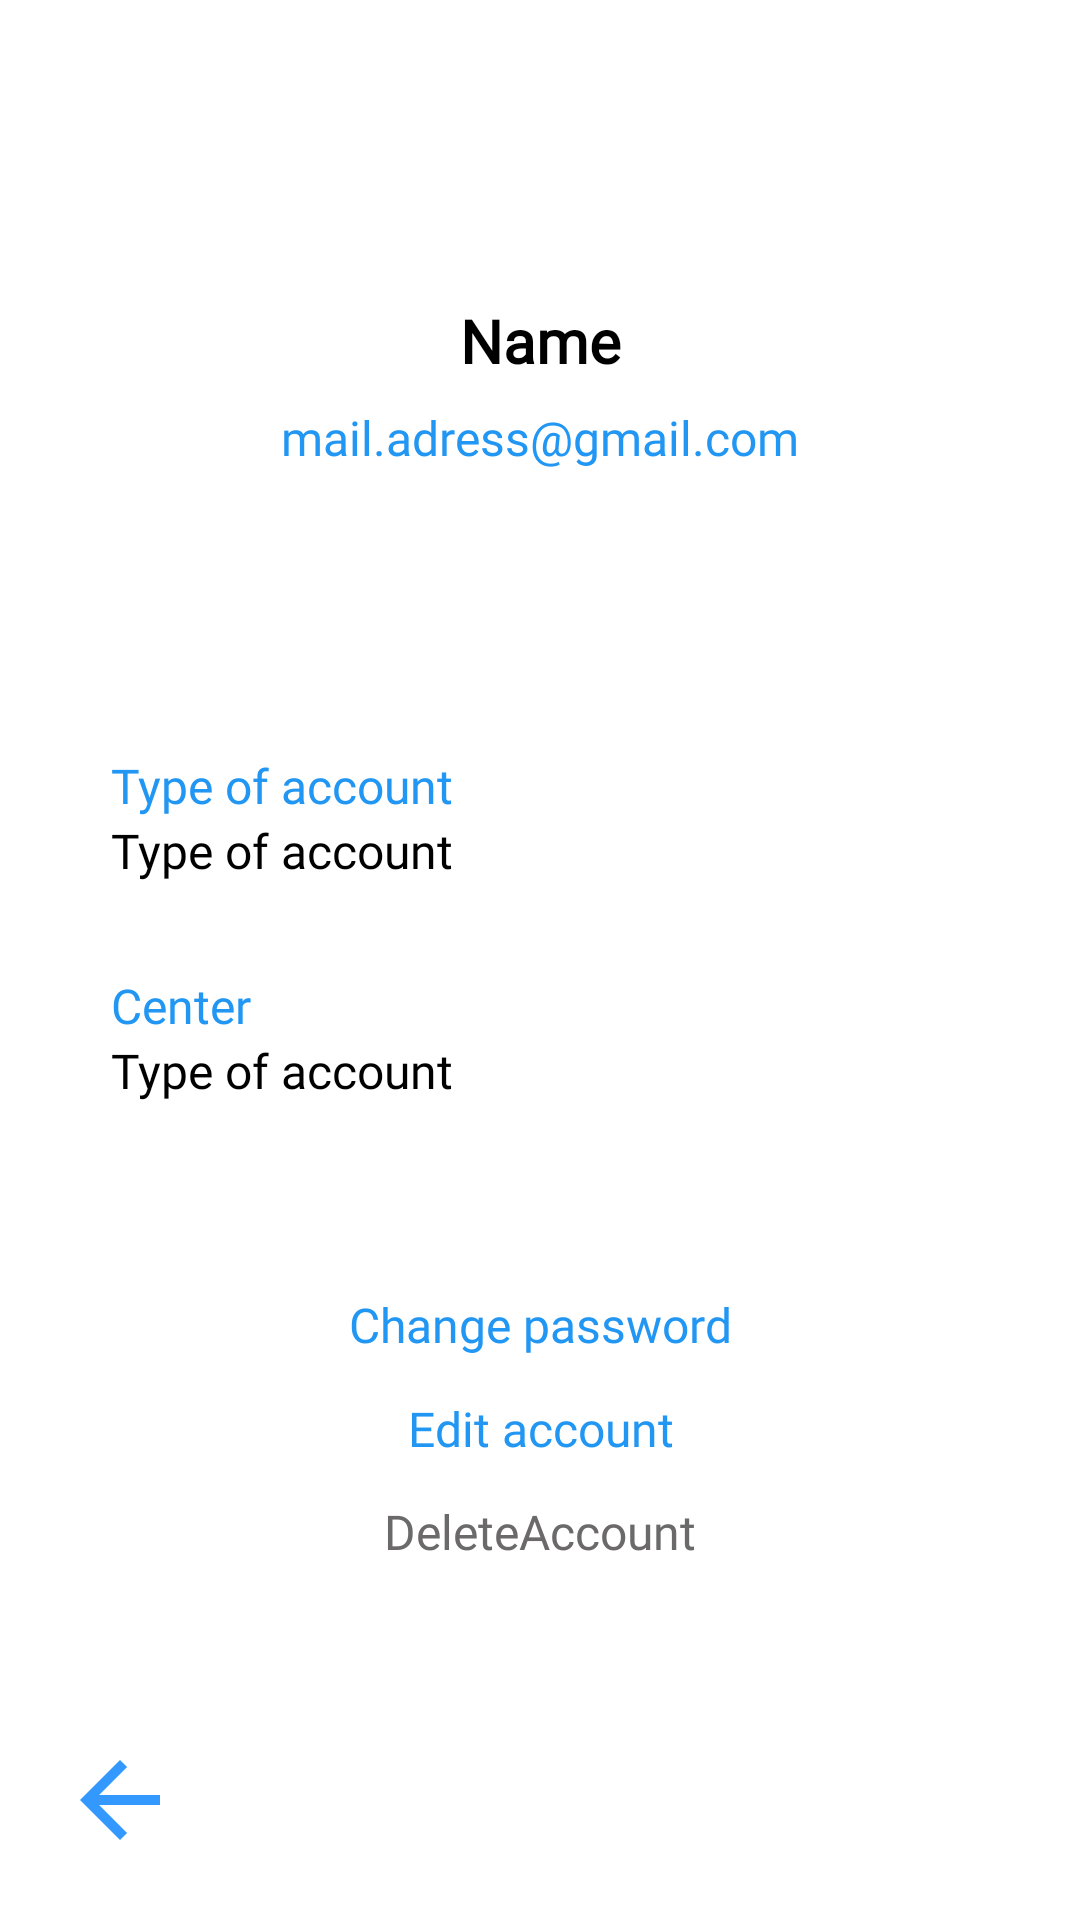

Icons on this 1080px×1920px Android screen, each with the point to tap as (x=x, y=y):
back: (x=120, y=1800)
